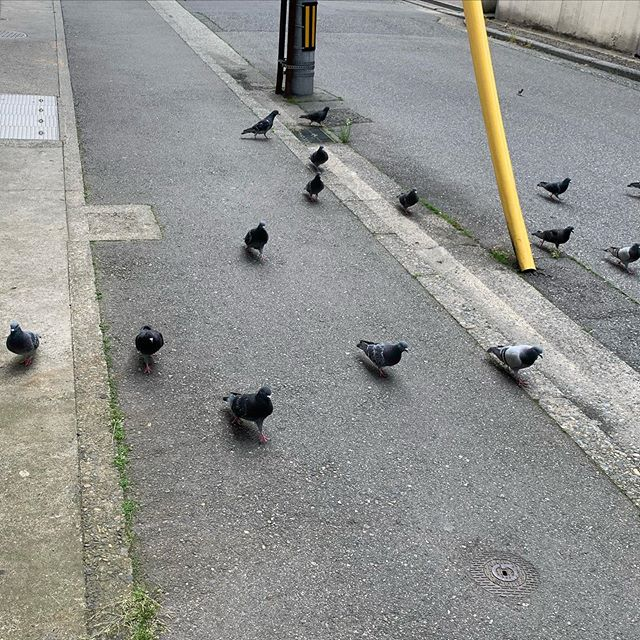animal: (485, 330, 547, 386), (350, 328, 411, 384), (217, 377, 276, 434), (125, 315, 168, 361), (1, 315, 43, 361), (238, 220, 280, 266), (295, 98, 336, 133), (240, 109, 281, 144), (393, 187, 434, 222), (532, 168, 573, 203), (527, 231, 568, 266), (599, 232, 640, 267), (299, 172, 329, 208), (303, 141, 333, 177)
street: (74, 4, 640, 640)
